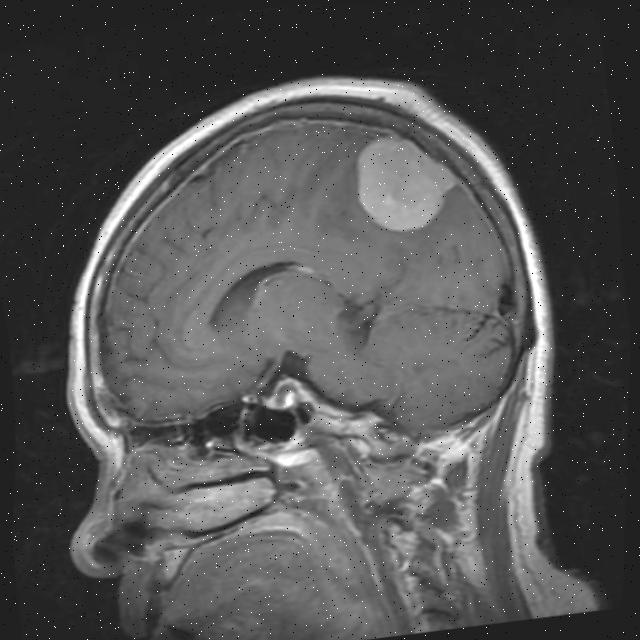Meningioma: (346, 123, 468, 241)
Pituitary: (259, 374, 308, 414)
